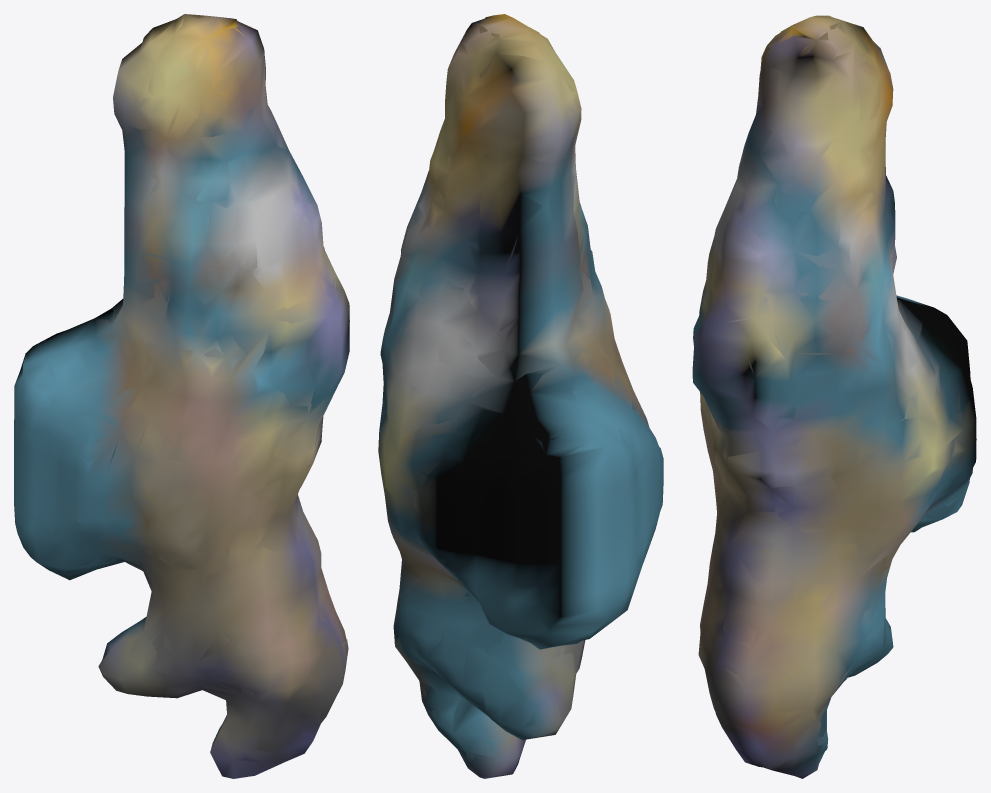
File: engineer.glb
The picture shows the model from 3 angles, left to right: view 1: azimuth 30°, elevation 25°; view 2: azimuth 150°, elevation 25°; view 3: azimuth 270°, elevation 25°; orthographic projection. The views are drawn at different scales.
Parts seen in each view (by area): view 1: allied_engineer; view 2: allied_engineer; view 3: allied_engineer.
Part boxes in pixels (bbox=[...]): allied_engineer: bbox=[14, 14, 349, 778]; allied_engineer: bbox=[378, 14, 663, 778]; allied_engineer: bbox=[692, 15, 976, 778].
Size of the model in its own units: 0.826 by 2.22 by 0.7715.
